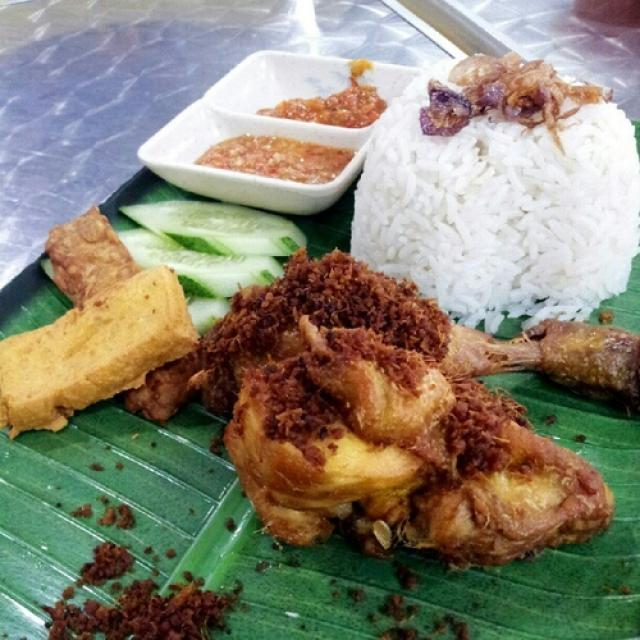米饭主食: (15, 50, 621, 591)
